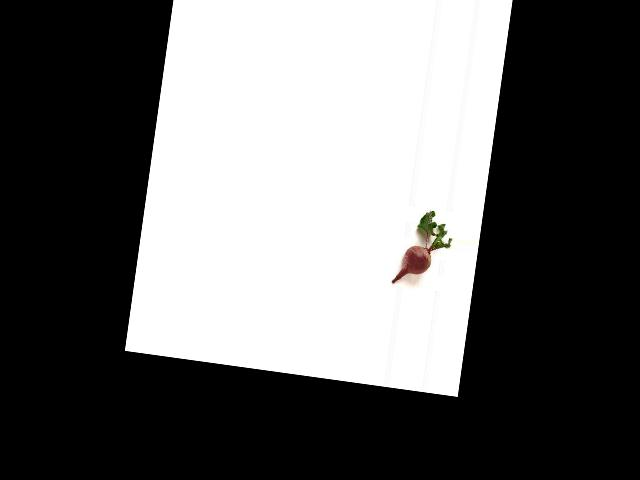beet: (391, 206, 455, 290)
